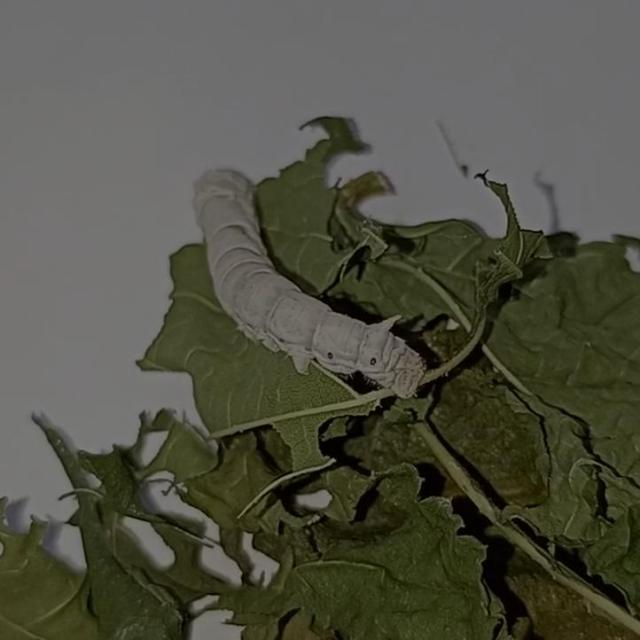Healthy: (176, 147, 428, 403)
